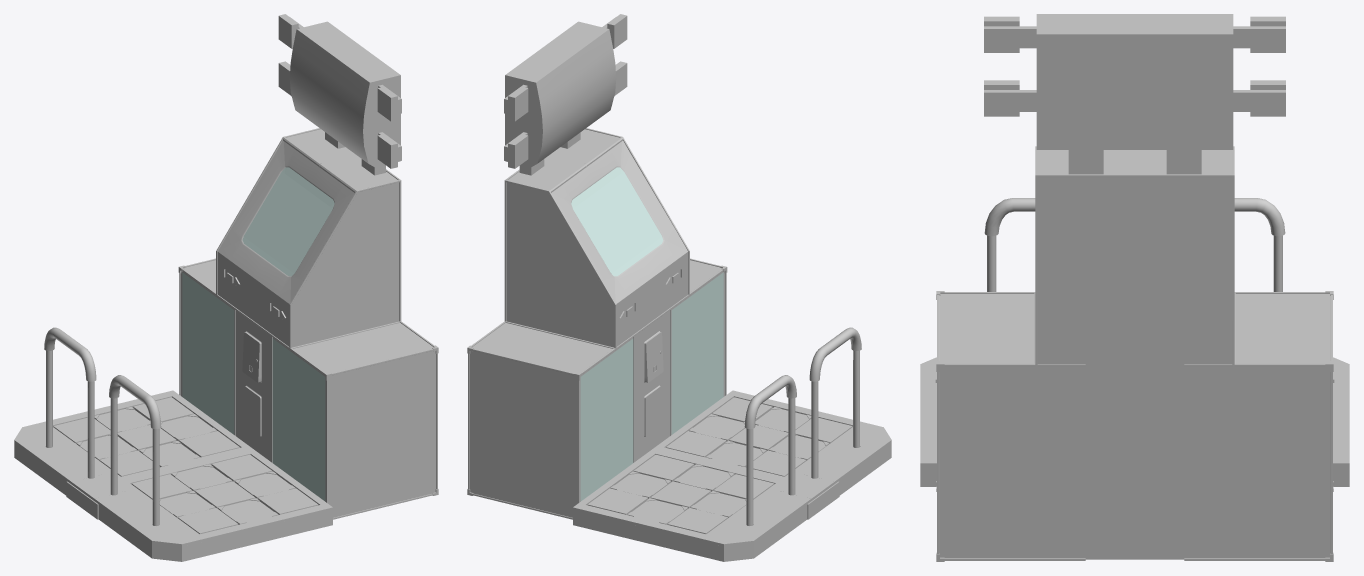
Rendered from SM_DanceMachine_01a.fbx.
The picture shows the model from 3 angles, left to right: view 1: azimuth 30°, elevation 25°; view 2: azimuth 150°, elevation 25°; view 3: azimuth 270°, elevation 25°; orthographic projection. The views are drawn at different scales.
Parts seen in each view (by area): view 1: SM_DanceMachine_01a_LOD0; view 2: SM_DanceMachine_01a_LOD0; view 3: SM_DanceMachine_01a_LOD0.
Boxes of the visible parts, x1,y1,x2,y2 form: SM_DanceMachine_01a_LOD0: (14,14,438,561); SM_DanceMachine_01a_LOD0: (467,14,891,561); SM_DanceMachine_01a_LOD0: (920,14,1349,561).
Size of the model in its own units: 195 by 191 by 259.
Materials: 3 (1 with a texture image).
